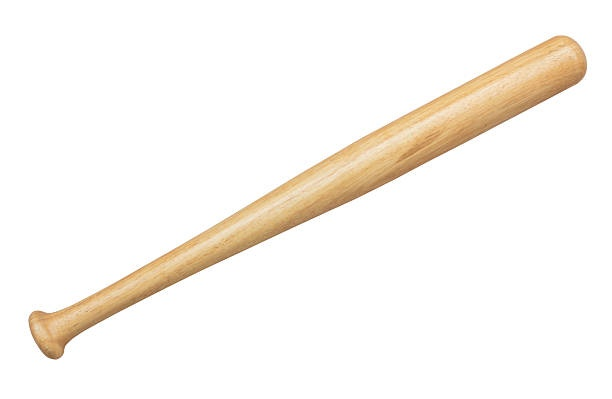bita: (25, 36, 579, 355)
